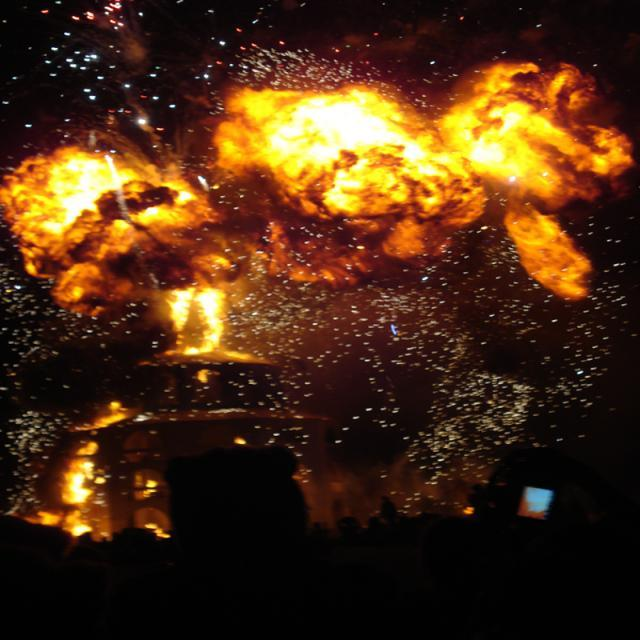Fire: (282, 104, 421, 206), (21, 165, 148, 246), (461, 99, 557, 189), (156, 290, 227, 350), (518, 222, 574, 285)
